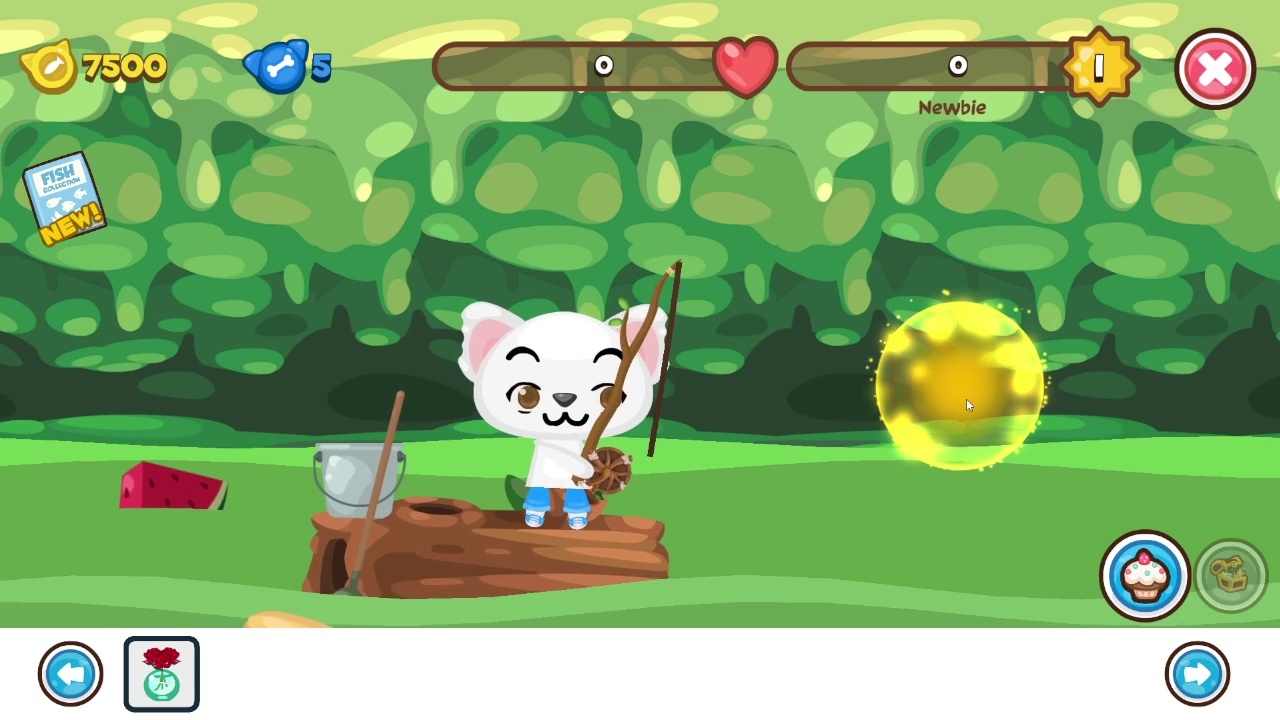point: (876, 302, 1045, 471)
